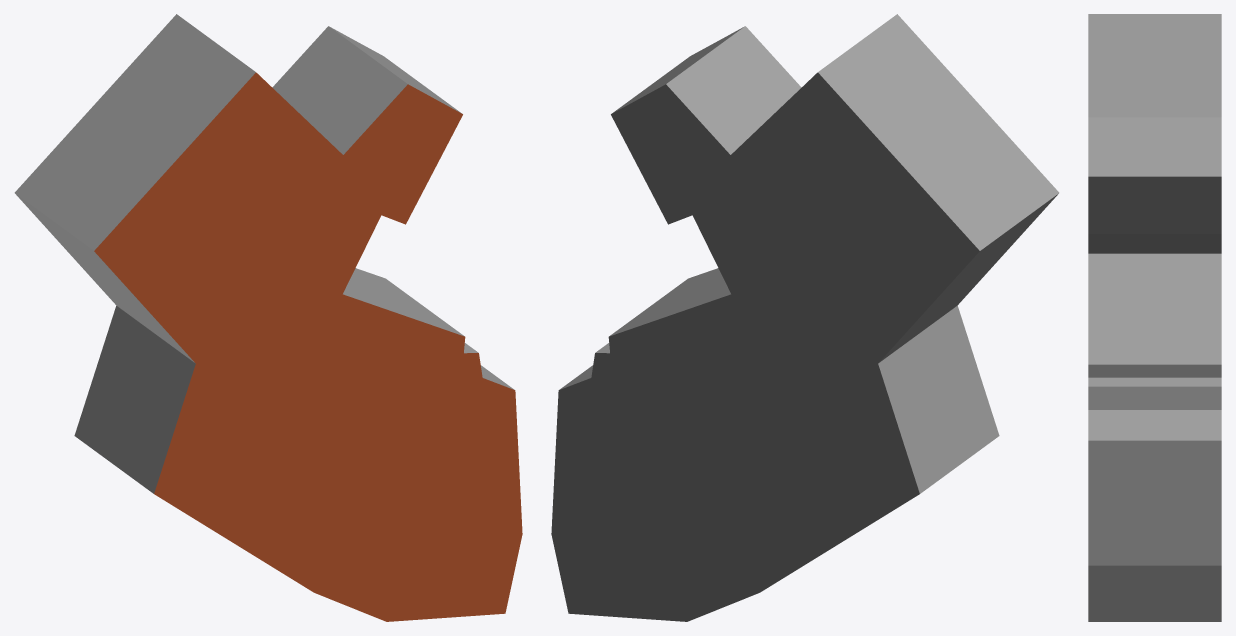
File: construction_2310_assumed_A_Casa_h6m.obj
3 views of the same model, side by side, from view 1: azimuth 30°, elevation 25°; view 2: azimuth 150°, elevation 25°; view 3: azimuth 270°, elevation 25° (orthographic). The views are drawn at different scales.
Parts seen in each view (by area): view 1: construction_2310_assumed_A_Casa; view 2: construction_2310_assumed_A_Casa; view 3: construction_2310_assumed_A_Casa.
Part boxes in pixels (x1,y1,x2,y2): construction_2310_assumed_A_Casa: (14,14,522,621); construction_2310_assumed_A_Casa: (551,14,1059,621); construction_2310_assumed_A_Casa: (1088,14,1221,621).
Size of the model in its own units: 18.66 by 25.06 by 6.
